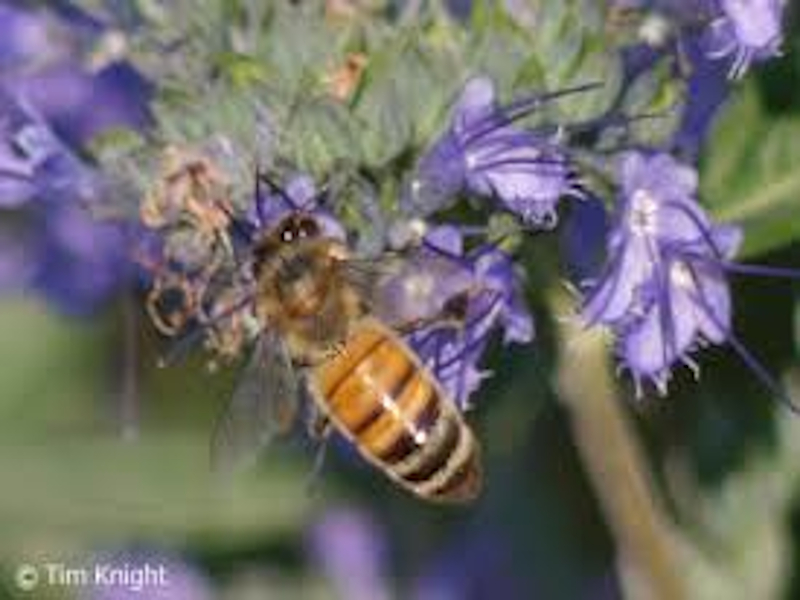abeja: (174, 184, 519, 549)
